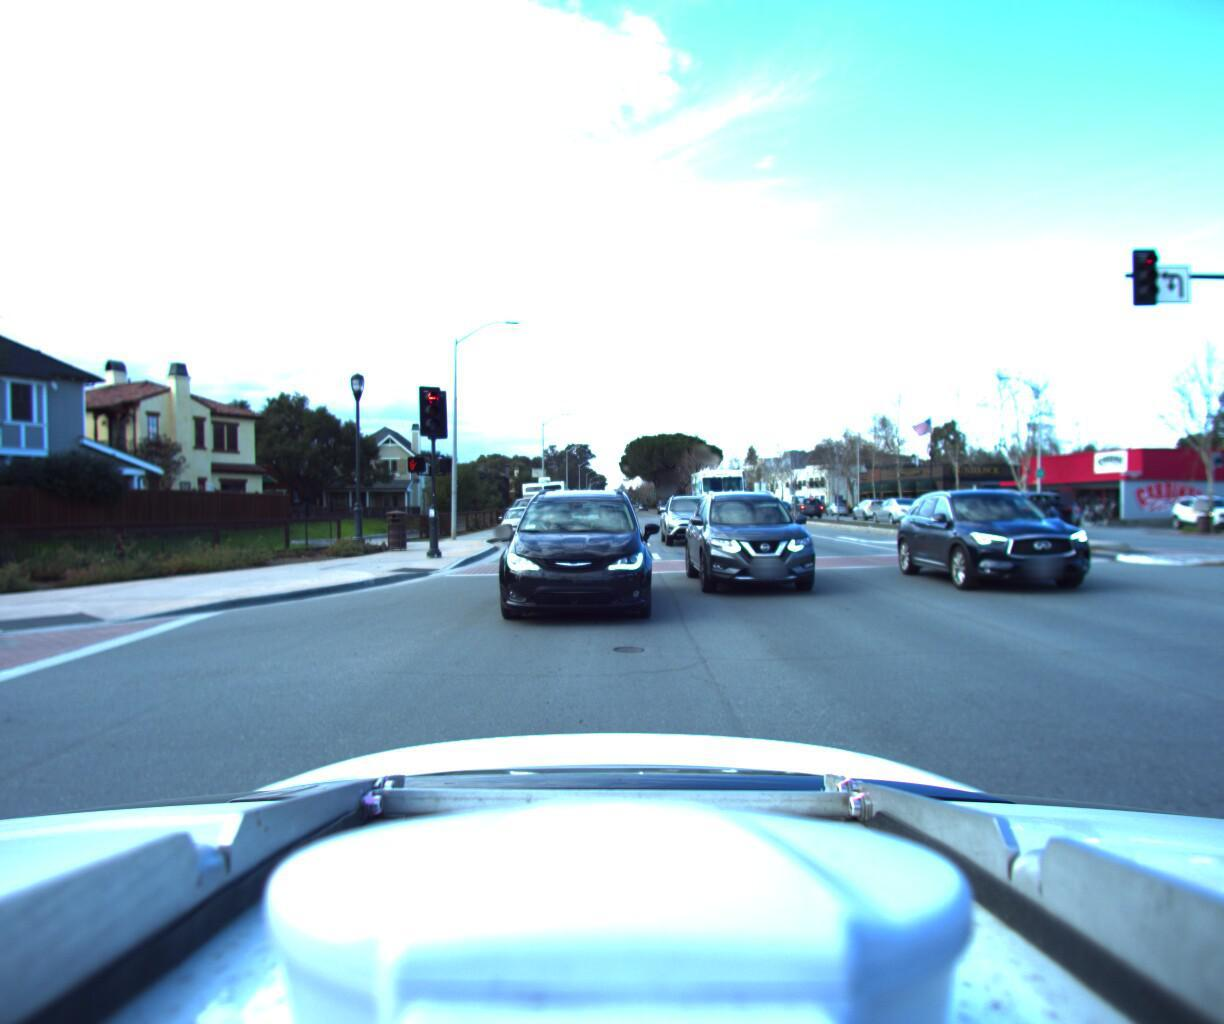bus: (523, 467, 570, 524)
car: (903, 477, 1149, 600), (491, 472, 660, 627), (685, 472, 841, 600), (962, 480, 1062, 533), (657, 483, 725, 542), (981, 487, 1072, 527), (504, 486, 555, 530), (1167, 488, 1224, 526), (861, 489, 927, 521), (497, 497, 547, 535), (842, 492, 885, 516), (789, 488, 825, 513), (775, 483, 805, 506)
truck: (687, 460, 752, 519)
